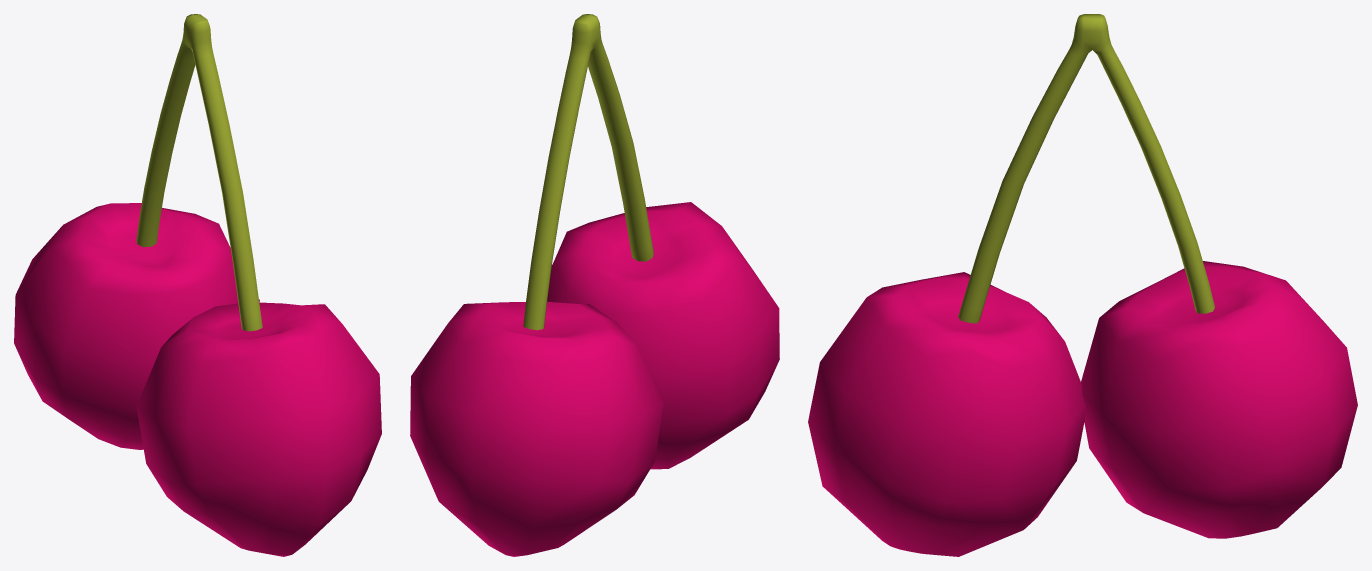
The model's file is Cherry.fbx.
3 renders of one model, left to right at view 1: azimuth 30°, elevation 25°; view 2: azimuth 150°, elevation 25°; view 3: azimuth 270°, elevation 25°, orthographic. The views are drawn at different scales.
Parts seen in each view (by area): view 1: pCube2, pCube1, pCube3; view 2: pCube1, pCube2, pCube3; view 3: pCube2, pCube1, pCube3.
Boxes of the visible parts, bbox=[...] form: pCube2: bbox=[136, 302, 381, 556]; pCube1: bbox=[14, 203, 259, 449]; pCube3: bbox=[136, 14, 262, 331]; pCube1: bbox=[410, 301, 663, 556]; pCube2: bbox=[547, 202, 779, 469]; pCube3: bbox=[523, 14, 653, 330]; pCube2: bbox=[808, 272, 1085, 556]; pCube1: bbox=[1081, 261, 1357, 538]; pCube3: bbox=[958, 14, 1214, 323].
Size of the model in its own units: 24.29 by 53.89 by 49.94.
